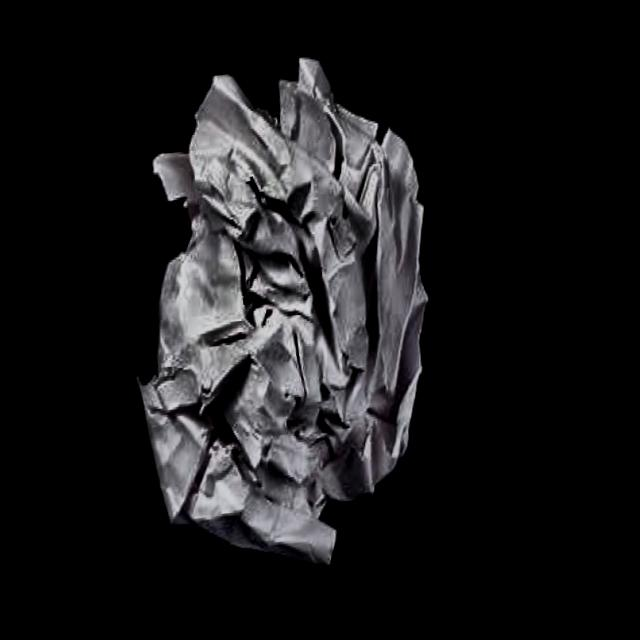Paper: (99, 28, 482, 591)
